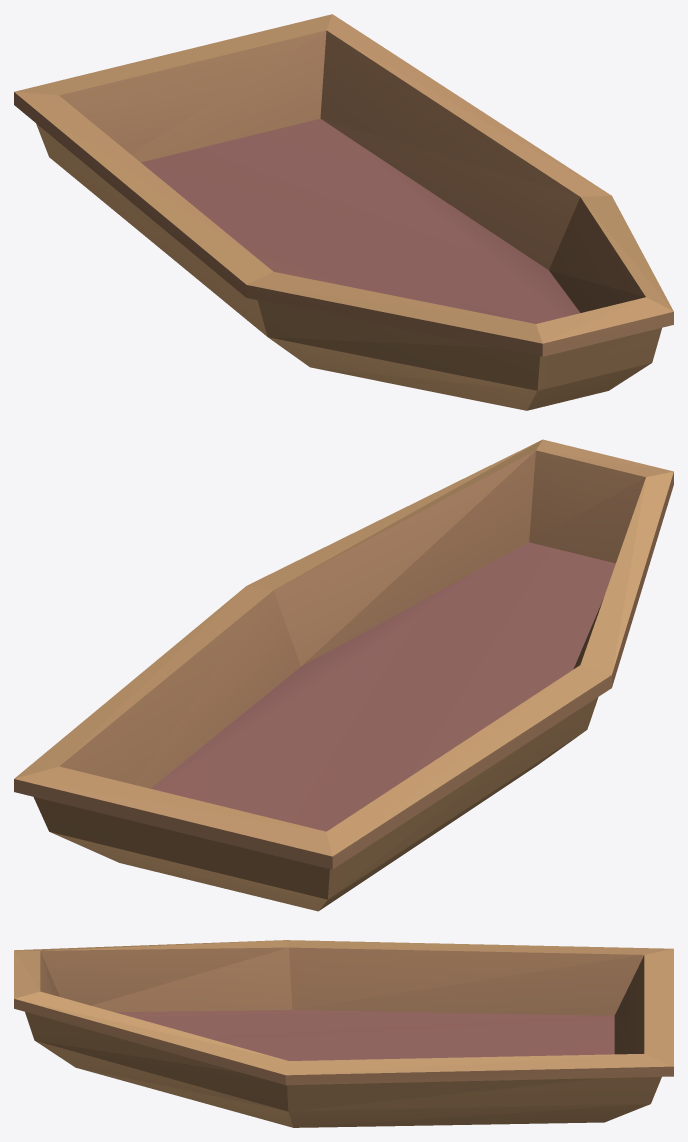
File: akja.lod2.glb
3 views of the same model, one above another, from view 1: azimuth 30°, elevation 25°; view 2: azimuth 150°, elevation 25°; view 3: azimuth 270°, elevation 25° (orthographic). The views are drawn at different scales.
Bounding box in the file's own units: 0.8736 × 0.345 × 1.8.
